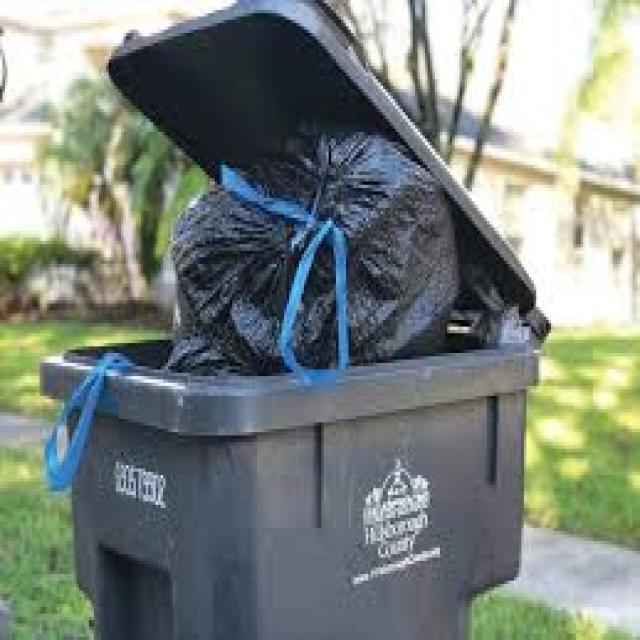Trashbag: (168, 128, 468, 344)
